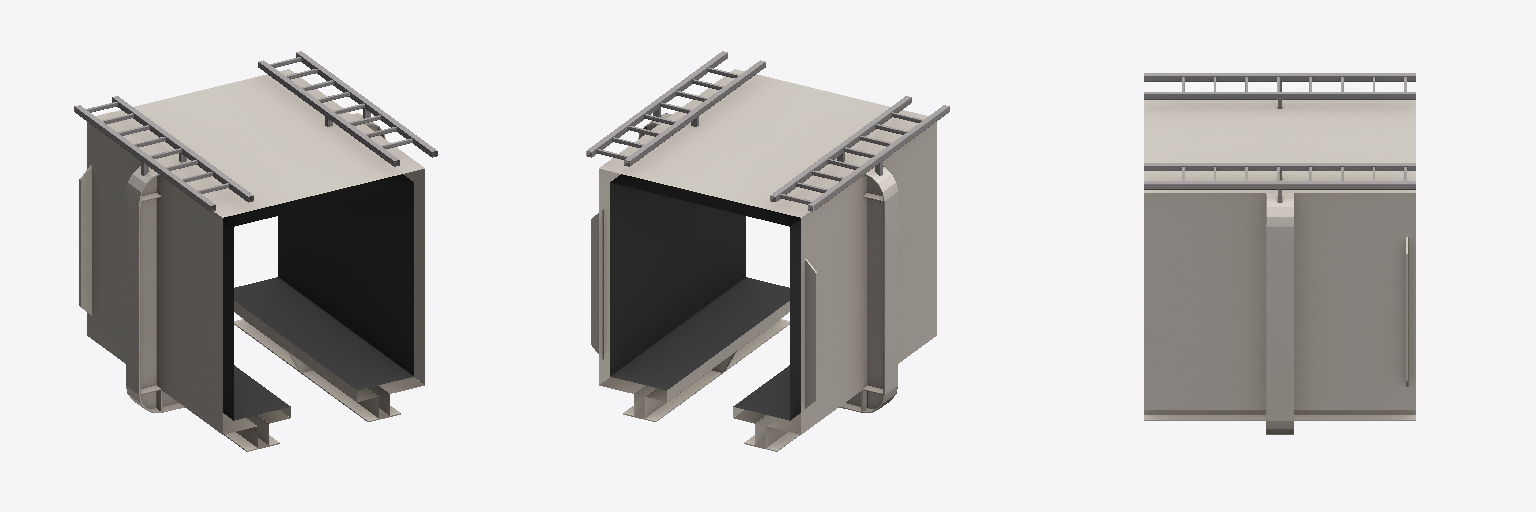
The picture shows the model from 3 angles: view 1: azimuth 30°, elevation 25°; view 2: azimuth 150°, elevation 25°; view 3: azimuth 270°, elevation 25°; orthographic projection.
Parts seen in each view (by area): view 1: rails_Cube.002; view 2: rails_Cube.002; view 3: rails_Cube.002.
Boxes of the visible parts, x1,y1,x2,y2 form: rails_Cube.002: [74, 51, 437, 451]; rails_Cube.002: [586, 51, 949, 451]; rails_Cube.002: [1144, 73, 1415, 434].
Bounding box in the file's own units: 2.24 × 2.21 × 2.14.
1 materials, 1 textured.